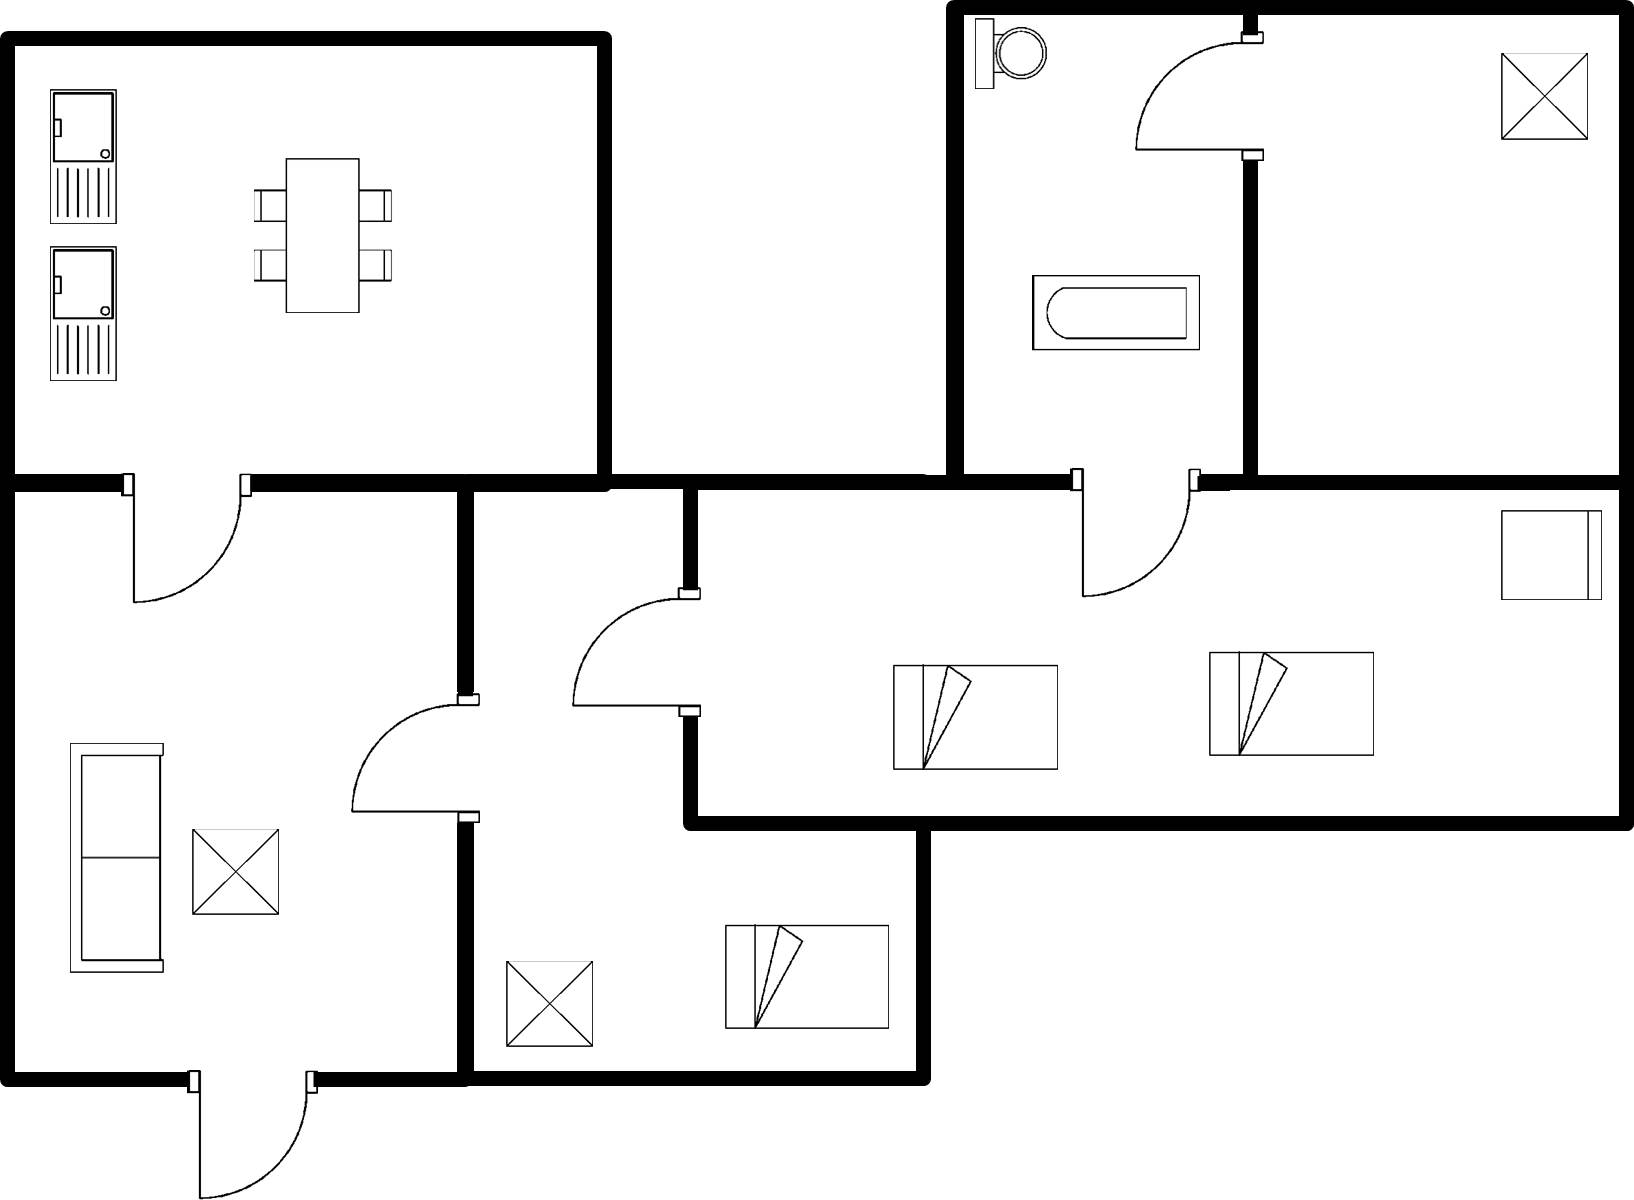bed: (882, 653, 1071, 780), (1198, 644, 1382, 771), (717, 912, 901, 1038)
coffee_table: (496, 953, 603, 1060), (1489, 43, 1596, 150), (181, 822, 288, 926)
dining_table: (243, 147, 404, 326)
large_sink: (969, 15, 1057, 102)
large_sofa: (58, 735, 174, 980)
sink: (42, 79, 129, 234), (44, 241, 126, 391)
small_sofa: (1492, 501, 1611, 612)
tub: (1025, 266, 1210, 357)
